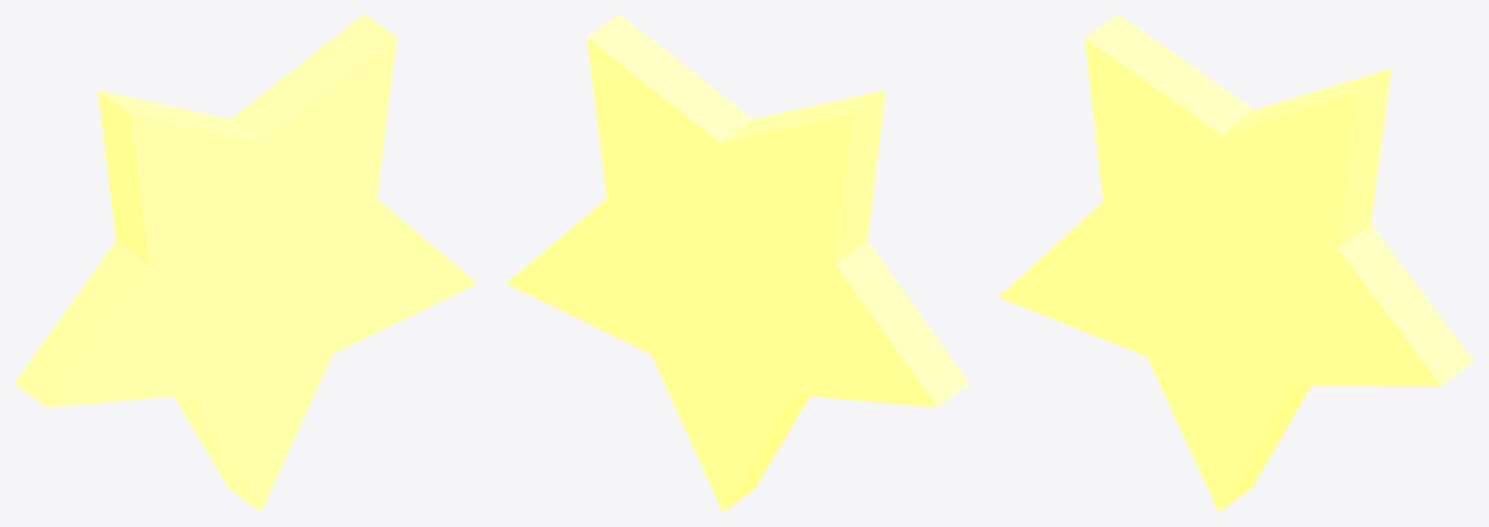
File: pentagram.glb
The picture shows the model from 3 angles, left to right: view 1: azimuth 30°, elevation 25°; view 2: azimuth 150°, elevation 25°; view 3: azimuth 330°, elevation 25°; orthographic projection. The views are drawn at different scales.
Parts seen in each view (by area): view 1: 円; view 2: 円; view 3: 円.
Boxes of the visible parts, left/top/right/bottom form: 円: left=14, top=14, right=477, bottom=512; 円: left=506, top=14, right=969, bottom=512; 円: left=999, top=14, right=1473, bottom=512.
Size of the model in its own units: 0.1526 by 0.1495 by 0.02.
